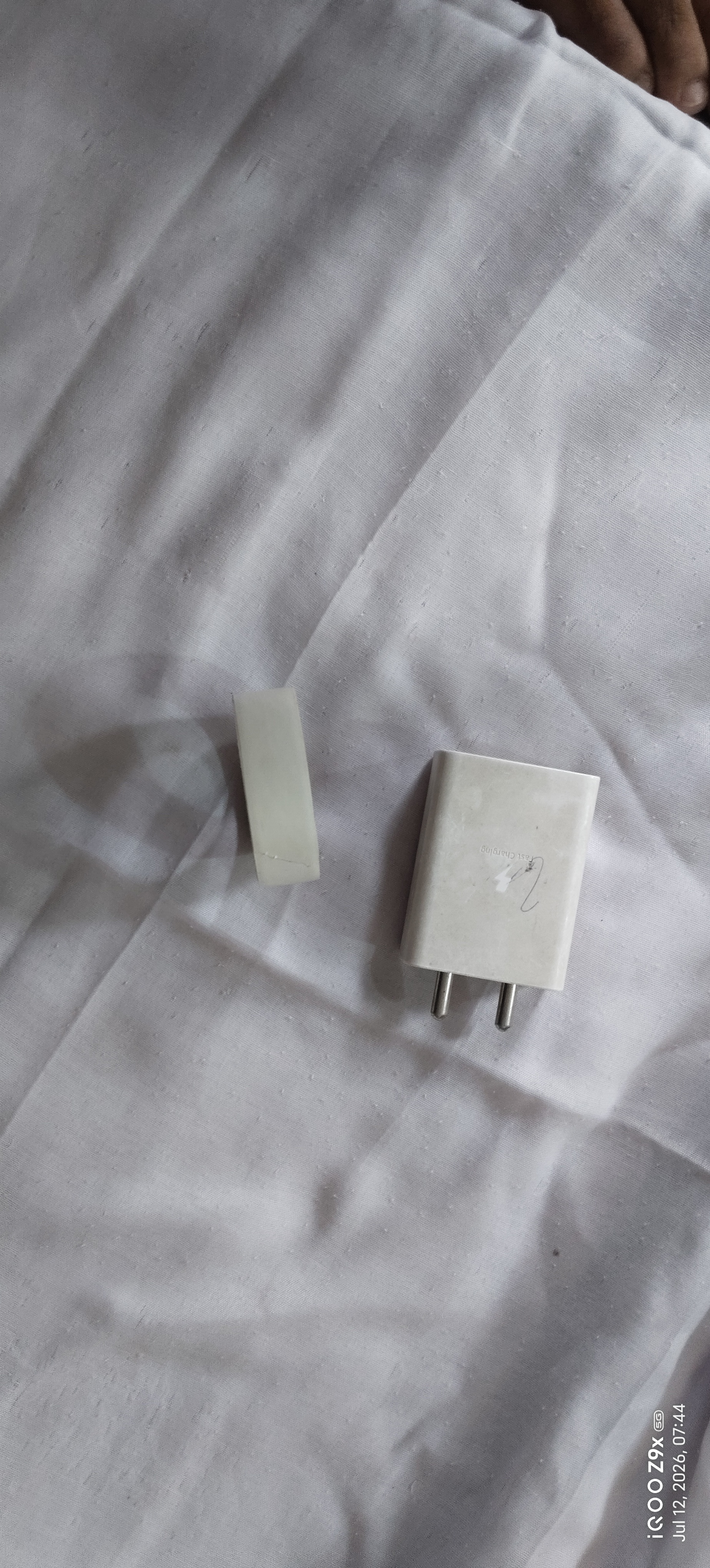charger: (371, 722, 620, 1052)
tape_roll: (194, 652, 345, 913)
